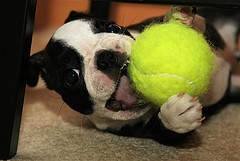tennis ball: (128, 21, 213, 104)
